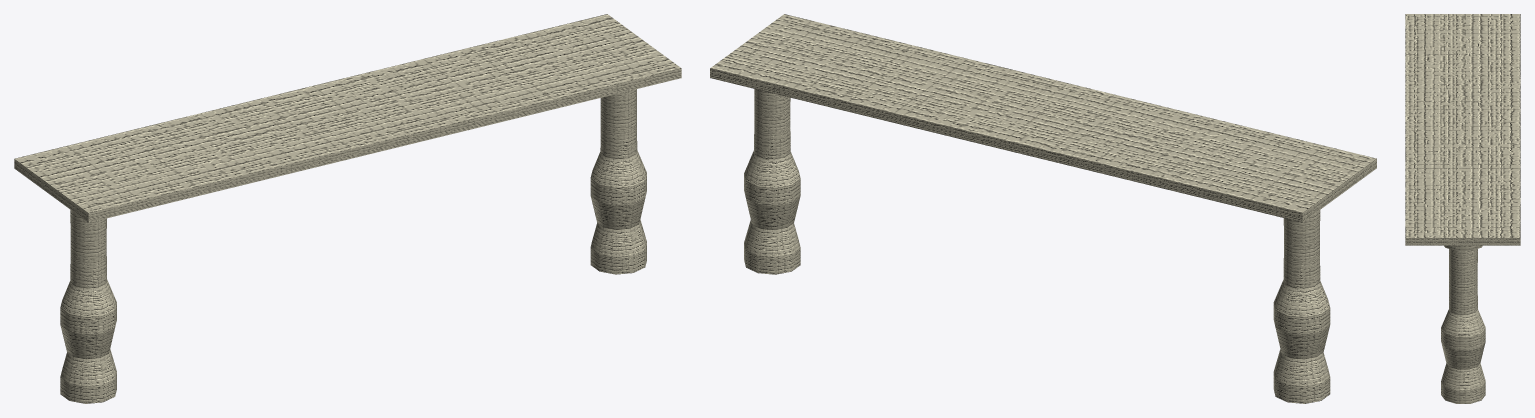
Rendered from cau1.fbx.
The picture shows the model from 3 angles, left to right: view 1: azimuth 30°, elevation 25°; view 2: azimuth 150°, elevation 25°; view 3: azimuth 270°, elevation 25°; orthographic projection. The views are drawn at different scales.
Visible parts, largest first — view 1: pCube1, pCylinder1, pCylinder2; view 2: pCube1, pCylinder1, pCylinder2; view 3: pCube1, pCylinder2.
Boxes of the visible parts, bbox=[...] form: pCube1: bbox=[14, 14, 681, 222]; pCylinder1: bbox=[60, 210, 116, 403]; pCylinder2: bbox=[590, 89, 646, 274]; pCube1: bbox=[710, 14, 1376, 222]; pCylinder1: bbox=[1273, 210, 1330, 403]; pCylinder2: bbox=[744, 89, 800, 274]; pCube1: bbox=[1405, 14, 1520, 245]; pCylinder2: bbox=[1441, 245, 1485, 403].
Size of the model in its own units: 175 by 60.55 by 37.9.
